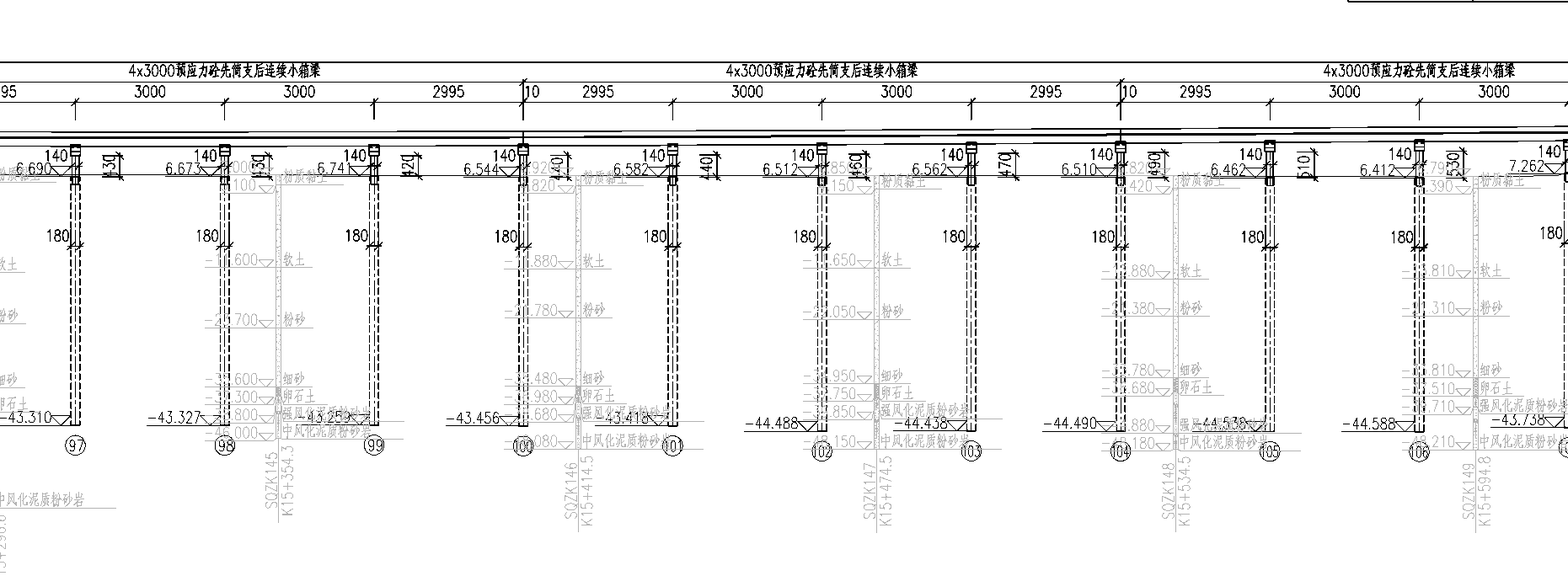B: (0, 49, 523, 99)
C: (740, 136, 847, 469), (887, 134, 993, 469), (1338, 133, 1443, 468), (1039, 134, 1144, 468), (589, 135, 695, 464), (141, 137, 247, 463), (1190, 133, 1292, 468), (292, 137, 395, 461), (442, 136, 544, 462), (0, 136, 99, 466), (1496, 129, 1568, 468)
